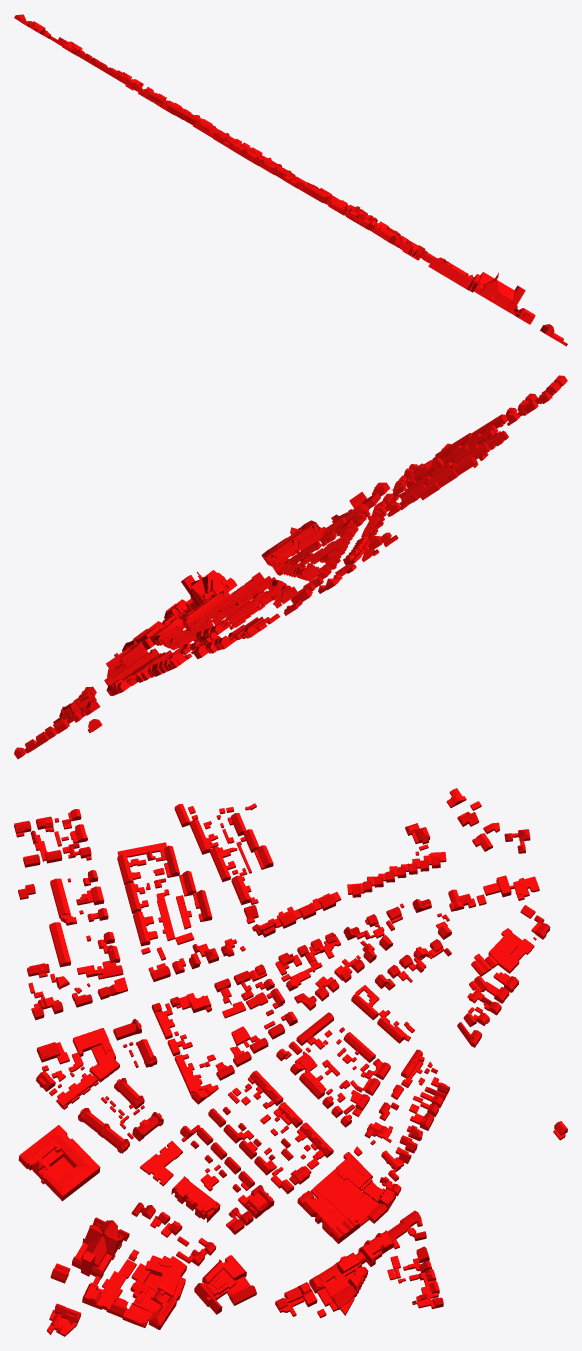
The picture shows the model from 3 angles, top to bottom: view 1: azimuth 30°, elevation 25°; view 2: azimuth 150°, elevation 25°; view 3: azimuth 270°, elevation 25°; orthographic projection. The views are drawn at different scales.
Visible parts, largest first — view 1: mesh; view 2: mesh; view 3: mesh.
Boxes of the visible parts, box(x1,y1,x2,y2) form: mesh: box(14, 14, 567, 346); mesh: box(14, 375, 567, 759); mesh: box(14, 788, 567, 1336).
Size of the model in its own units: 445 by 331 by 491.
